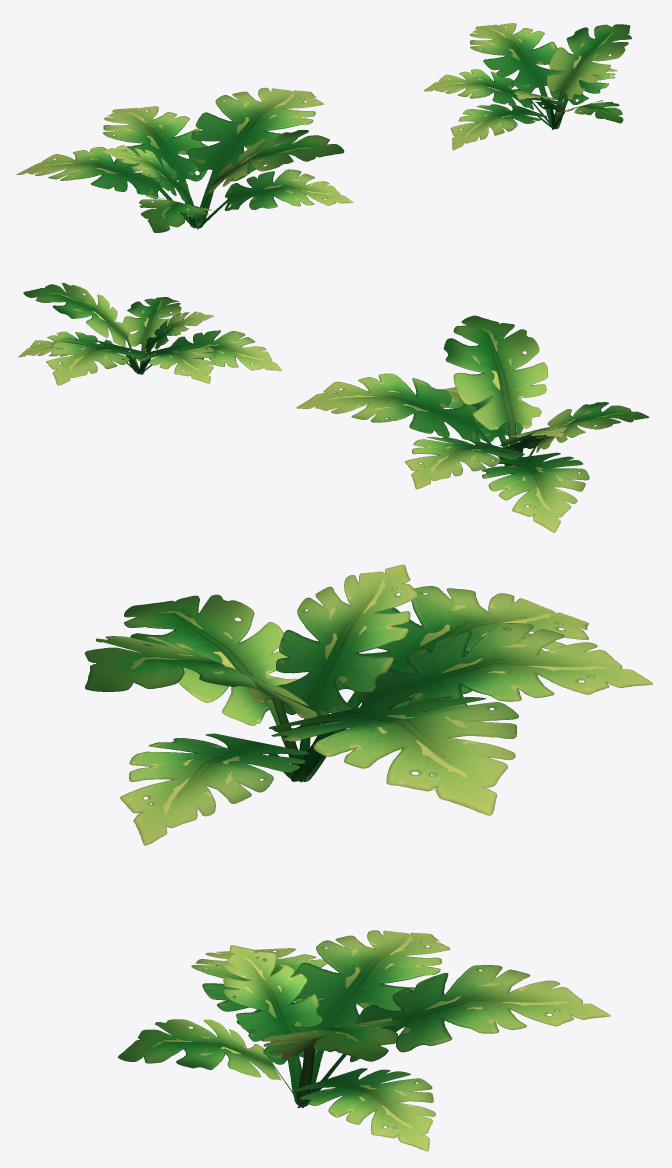
Rendered from 9_Hojas_Palmera.fbx.
3 views of the same model, one above another, from view 1: azimuth 30°, elevation 25°; view 2: azimuth 150°, elevation 25°; view 3: azimuth 270°, elevation 25° (orthographic). The views are drawn at different scales.
Parts seen in each view (by area): view 1: 3_Hoja_Palmera.002; view 2: 3_Hoja_Palmera.002; view 3: 3_Hoja_Palmera.002.
Boxes of the visible parts, x1,y1,x2,y2 form: 3_Hoja_Palmera.002: [16, 23, 631, 232]; 3_Hoja_Palmera.002: [18, 283, 649, 532]; 3_Hoja_Palmera.002: [84, 564, 652, 1151].
Bounding box in the file's own units: 1535 × 243 × 731.
